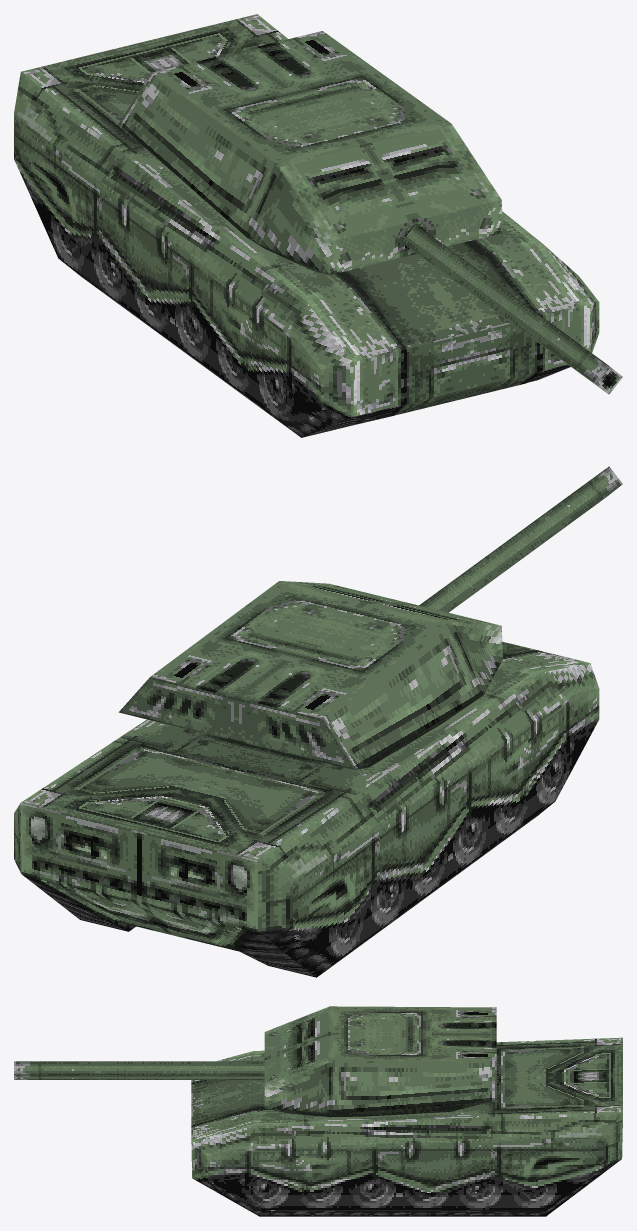
Rendered from psx_tank.glb.
3 views of the same model, one above another, from view 1: azimuth 30°, elevation 25°; view 2: azimuth 150°, elevation 25°; view 3: azimuth 270°, elevation 25° (orthographic). The views are drawn at different scales.
Visible parts, largest first — view 1: body, turret, barrel; view 2: body, turret, barrel; view 3: body, turret, barrel.
Part boxes in pixels (x1,y1,x2,y2): body: (14,14,599,437); turret: (118,31,502,275); barrel: (402,224,622,394); body: (14,641,599,977); turret: (118,581,502,769); barrel: (419,466,622,612); body: (191,1037,622,1216); turret: (264,1006,496,1117); barrel: (14,1061,264,1079).
Bounding box in the file's own units: 4.76 × 3.67 × 13.94.
Materials: 1 (1 with a texture image).
